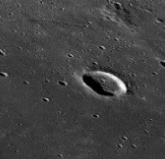crater: (71, 45, 149, 121)
